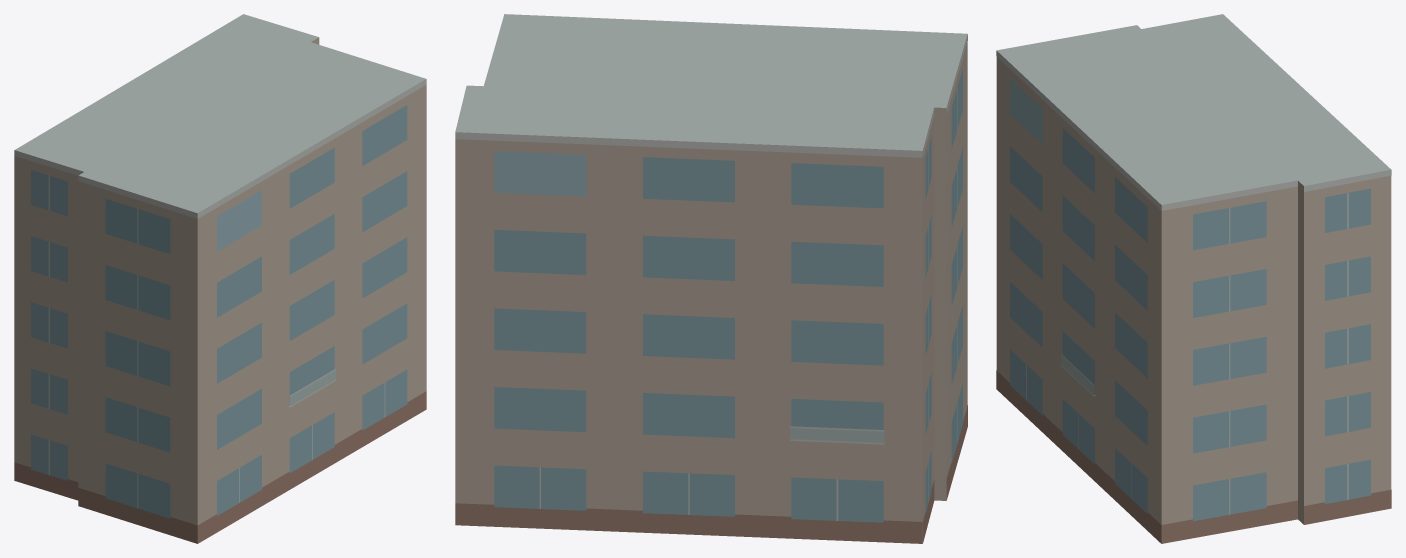
The model's file is survey-upis-32918966.glb.
3 renders of one model, left to right at view 1: azimuth 30°, elevation 25°; view 2: azimuth 150°, elevation 25°; view 3: azimuth 270°, elevation 25°, orthographic. The views are drawn at different scales.
Visible parts, largest first — view 1: survey-upis-32918966.tmp; view 2: survey-upis-32918966.tmp; view 3: survey-upis-32918966.tmp.
Part boxes in pixels (x1,y1,x2,y2): survey-upis-32918966.tmp: (14,14,426,543); survey-upis-32918966.tmp: (455,14,967,543); survey-upis-32918966.tmp: (996,14,1391,543).
Size of the model in its own units: 16.82 by 13.9 by 14.7.
